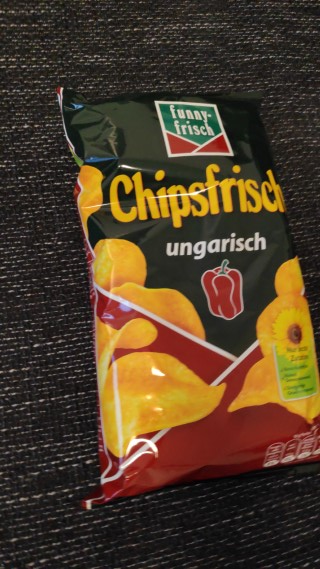chipsfrisch: (54, 84, 319, 513)
